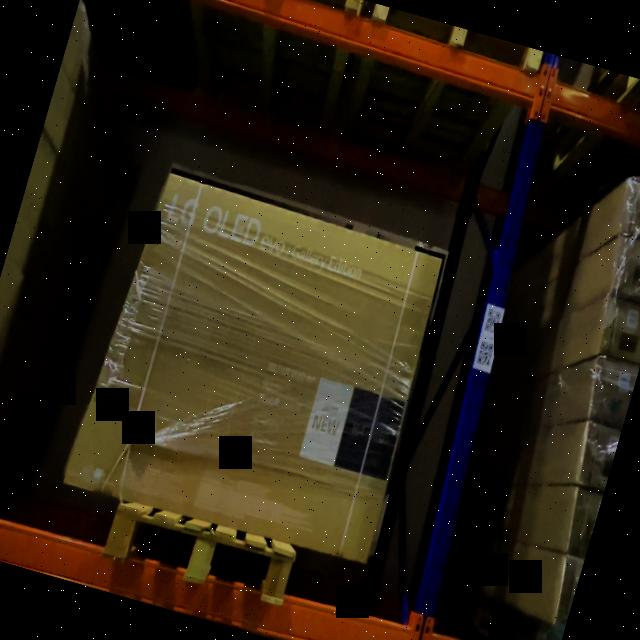box: (80, 180, 442, 566), (589, 359, 639, 428), (598, 298, 640, 365), (613, 239, 640, 302), (620, 181, 640, 244)
